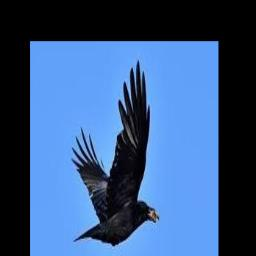Crow: (73, 60, 159, 245)
